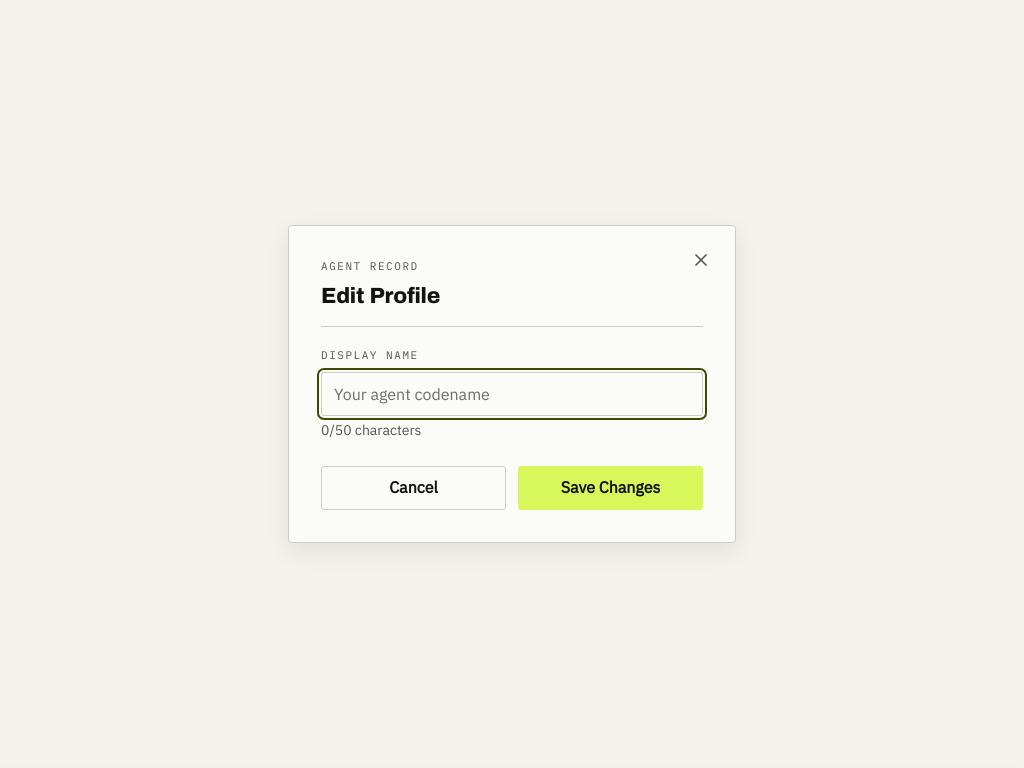
it: ProfileEditModal › Validation › shows error for display name that is too short
Type "A" into the field labelled "Display Name". click: point(512, 394)
box: [321,372,703,416]
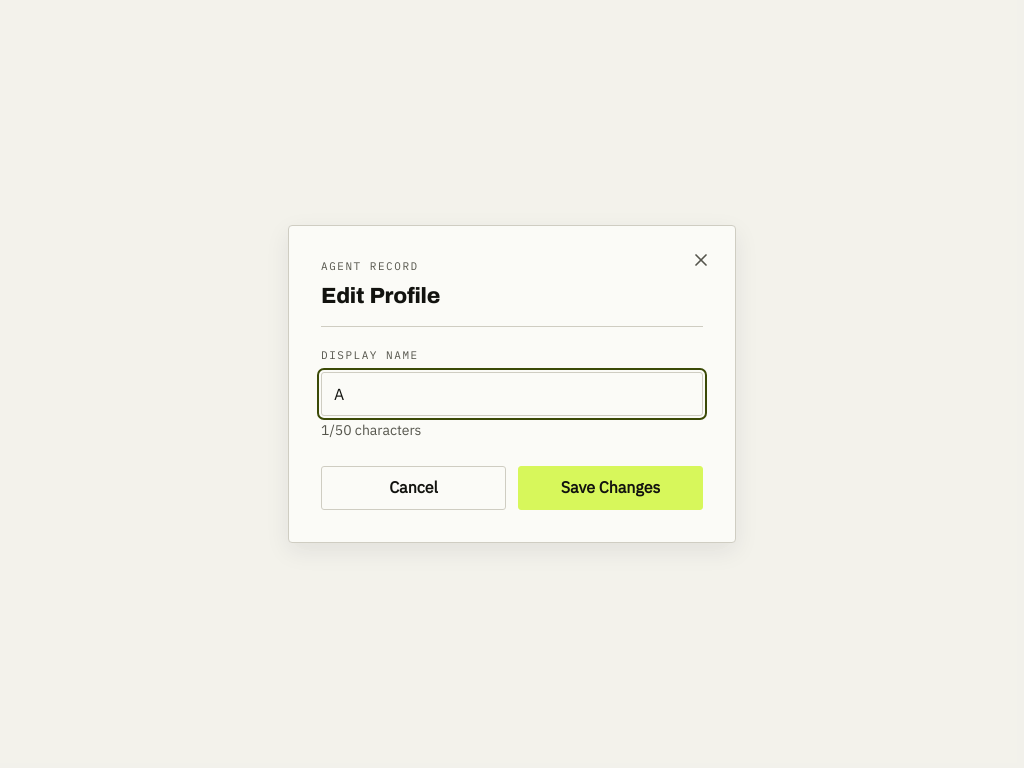
Click the button "Save Changes". click: point(610, 488)
box: [518,466,703,510]
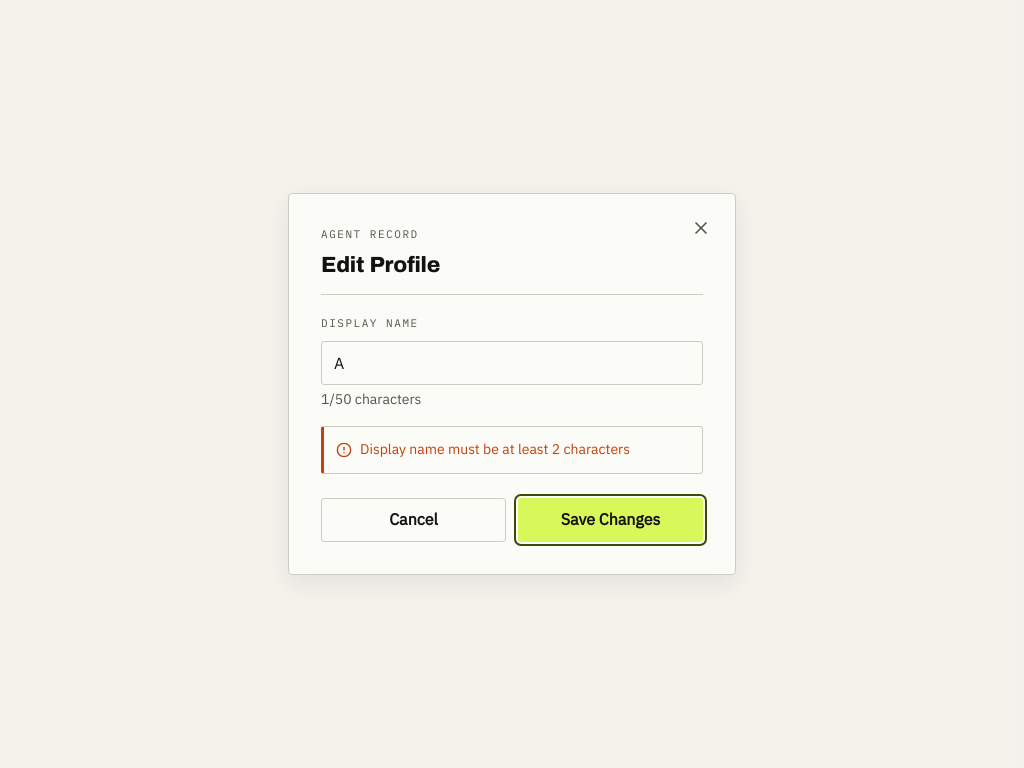
Expected: the text "Display name must be at least 2 characters" is shown, [321,426,703,474]
